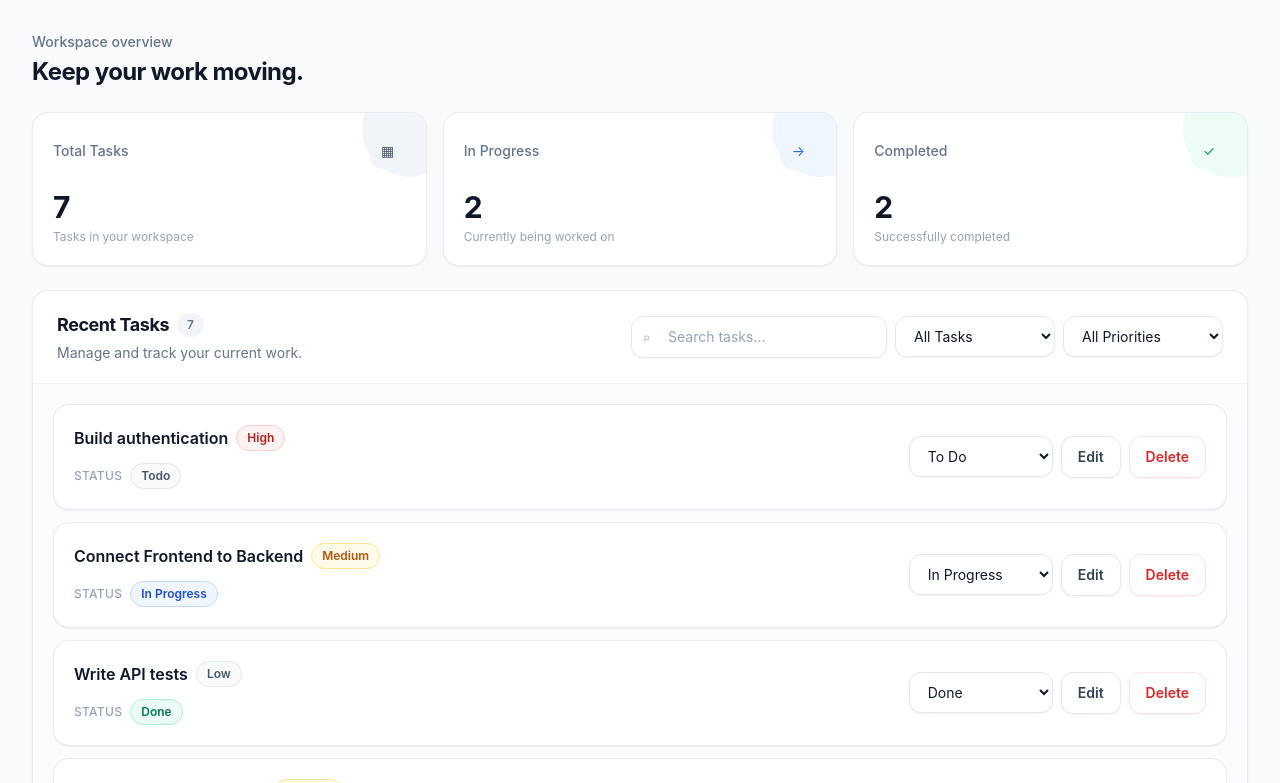
Dashboard › filters tasks by priority
The width and height of the screenshot is (1280, 783).
Select "High Priority" in the 2nd dropdown named "Filter tasks by priority" at (1143, 336), box [1063,316,1223,357]
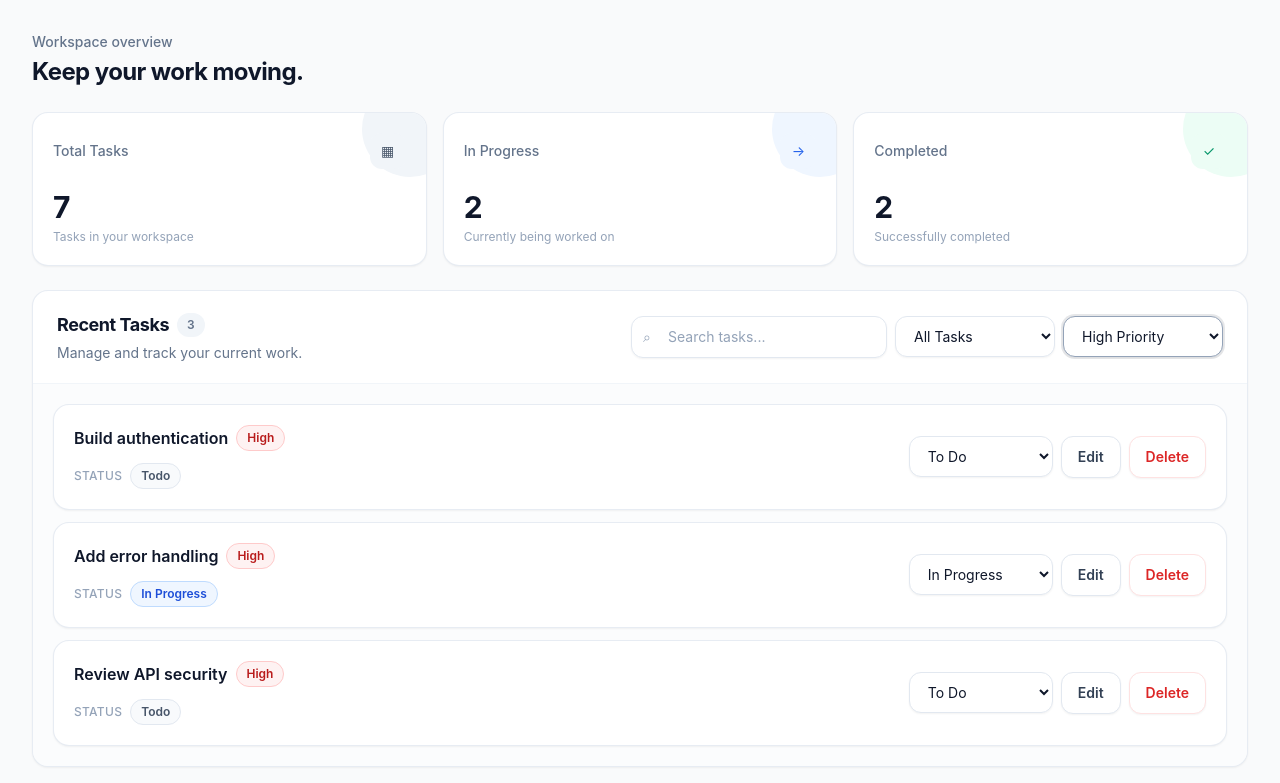
Expected: the text "Build authentication" is shown, [74,426,228,450]
Expected: the text "Review API security" is shown, [74,662,228,686]
Expected: the text "Write API tests" is gone
